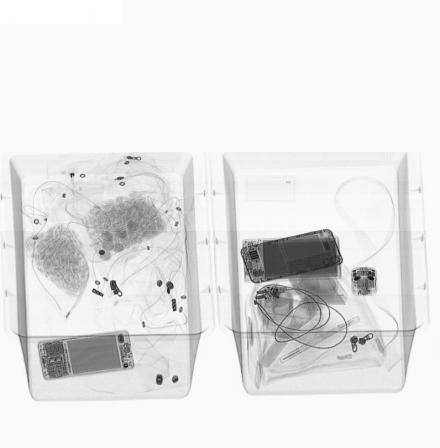Powerbank: (34, 329, 137, 380)
